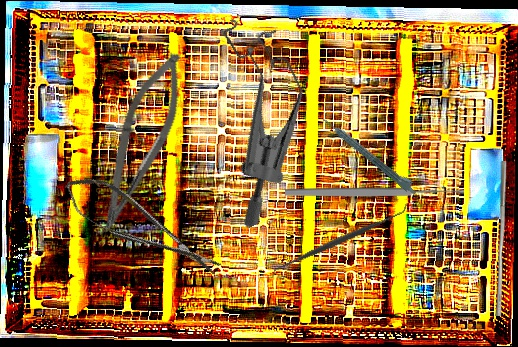Handpiece: (321, 112, 421, 197)
Micro Scissor: (87, 43, 196, 245), (57, 164, 226, 292)
Pusher: (495, 161, 507, 316)
Spatula Surgical: (266, 201, 414, 279)
Speculum: (159, 2, 352, 231)
Surgical Spoon: (285, 187, 464, 198)
